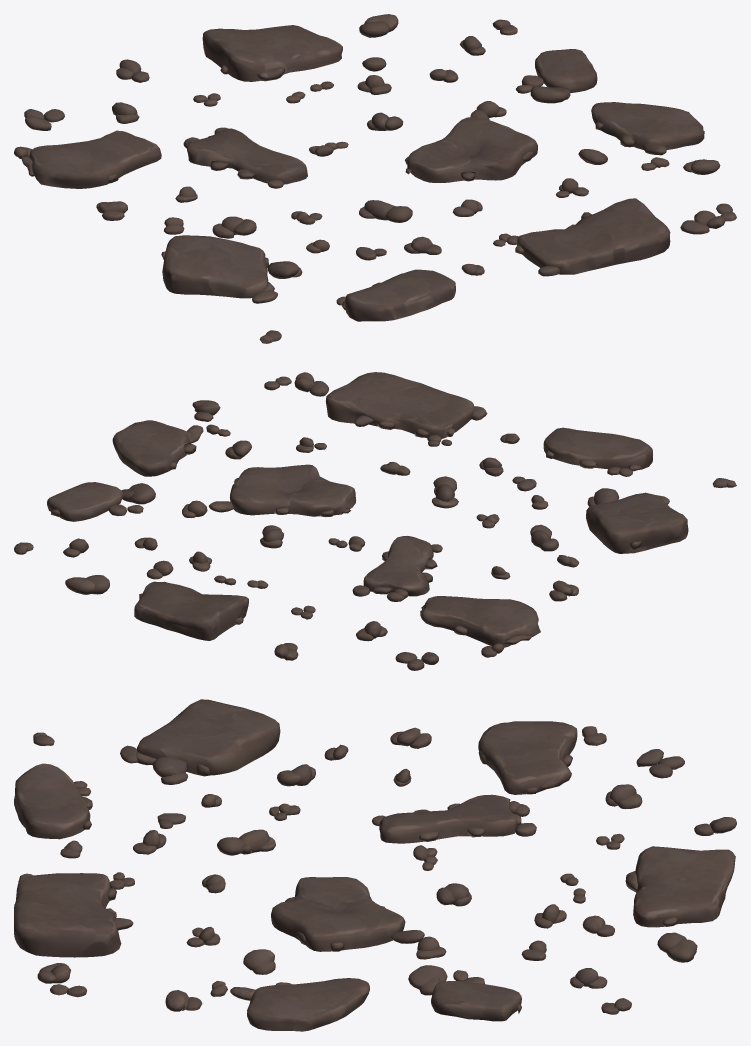
Rendered from escombro_terreno.glb.
3 renders of one model, top to bottom at view 1: azimuth 30°, elevation 25°; view 2: azimuth 150°, elevation 25°; view 3: azimuth 270°, elevation 25°, orthographic. The views are drawn at different scales.
Parts seen in each view (by area): view 1: geometry_0; view 2: geometry_0; view 3: geometry_0.
Boxes of the visible parts, <box> form: geometry_0: <box>14,14,736,343</box>; geometry_0: <box>14,372,736,670</box>; geometry_0: <box>14,699,736,1031</box>.
Bounding box in the file's own units: 1 × 0.0458 × 1.
Materials: 1 (1 with a texture image).
